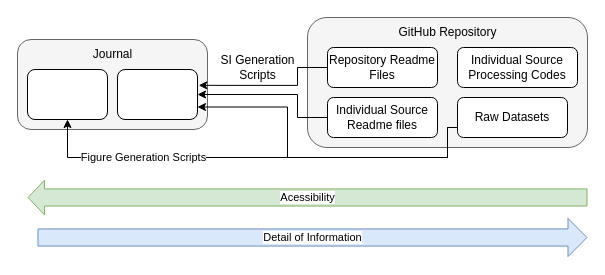
Some shapes in this 605 by 275 pixel diagram are drawn without their labels. Each missing label, with the box of its shape:
Main Text: (26, 68, 108, 120)
Supporting Information (SI): (116, 68, 198, 120)
